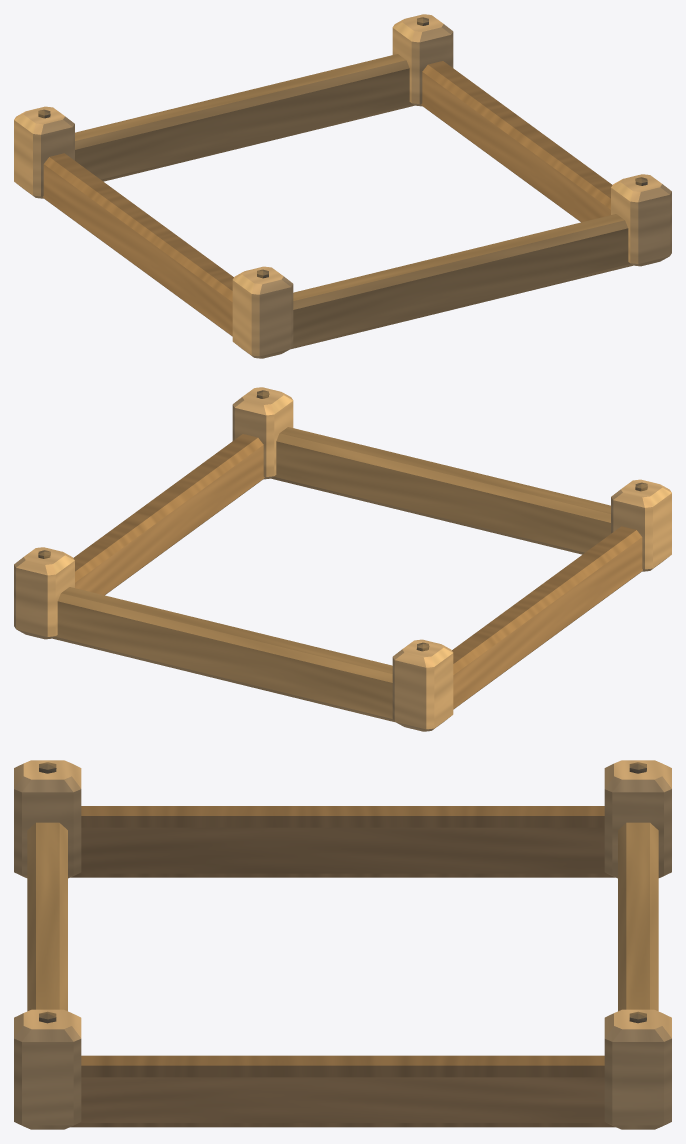
The model's file is bed.glb.
The picture shows the model from 3 angles, top to bottom: view 1: azimuth 30°, elevation 25°; view 2: azimuth 150°, elevation 25°; view 3: azimuth 270°, elevation 25°; orthographic projection. The views are drawn at different scales.
Parts seen in each view (by area): view 1: Beet · Bretter und Eckpflöcke; view 2: Beet · Bretter und Eckpflöcke; view 3: Beet · Bretter und Eckpflöcke.
Boxes of the visible parts, left/top/right/bottom form: Beet · Bretter und Eckpflöcke: left=14, top=14, right=671, bottom=358; Beet · Bretter und Eckpflöcke: left=14, top=387, right=671, bottom=731; Beet · Bretter und Eckpflöcke: left=14, top=760, right=671, bottom=1129.
Size of the model in its own units: 1.37 by 0.252 by 1.38.
1 material, 1 textured.
